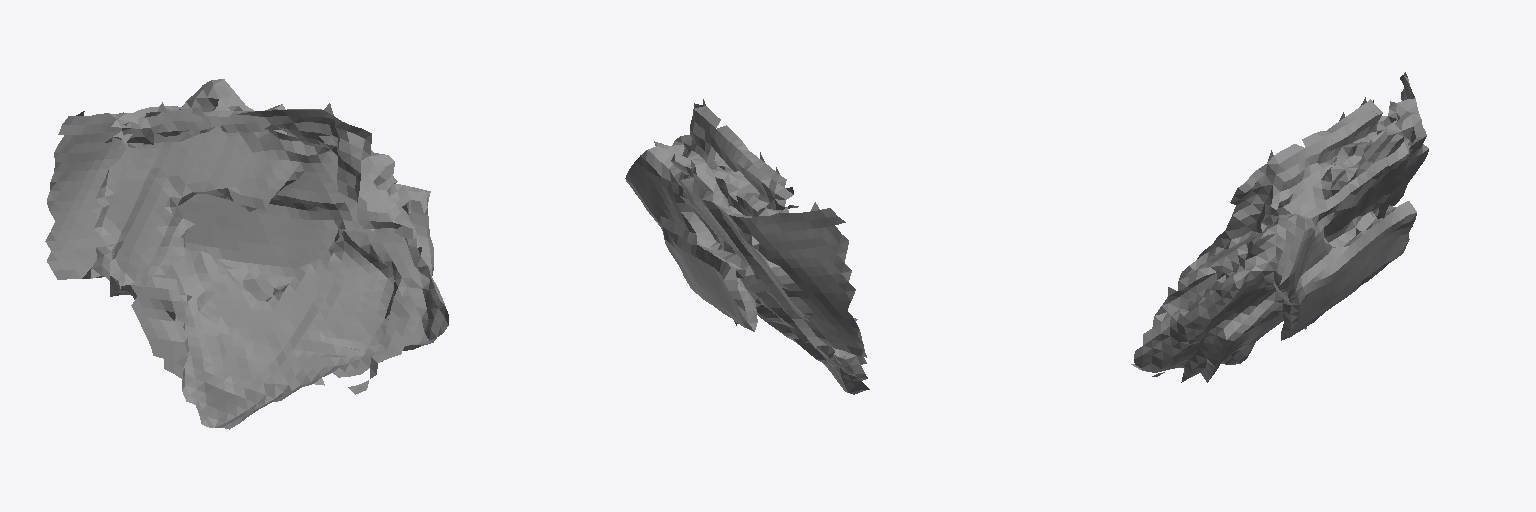
The model's file is KrantenMesh.obj.
The picture shows the model from 3 angles: view 1: azimuth 30°, elevation 25°; view 2: azimuth 150°, elevation 25°; view 3: azimuth 270°, elevation 25°; orthographic projection.
Parts seen in each view (by area): view 1: default; view 2: default; view 3: default.
Boxes of the visible parts, <box> form: default: <box>45,79,448,429</box>; default: <box>625,99,869,394</box>; default: <box>1131,72,1428,382</box>.
Size of the model in its own units: 5.79 by 5.06 by 4.89.